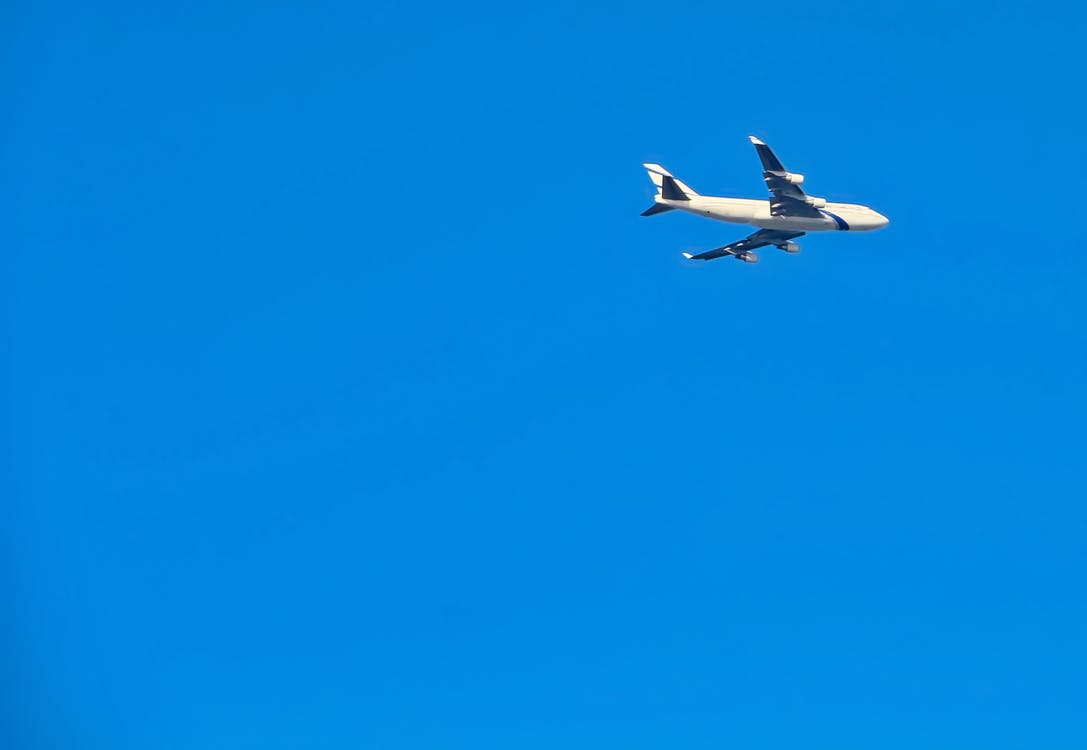plane: (639, 133, 896, 269)
